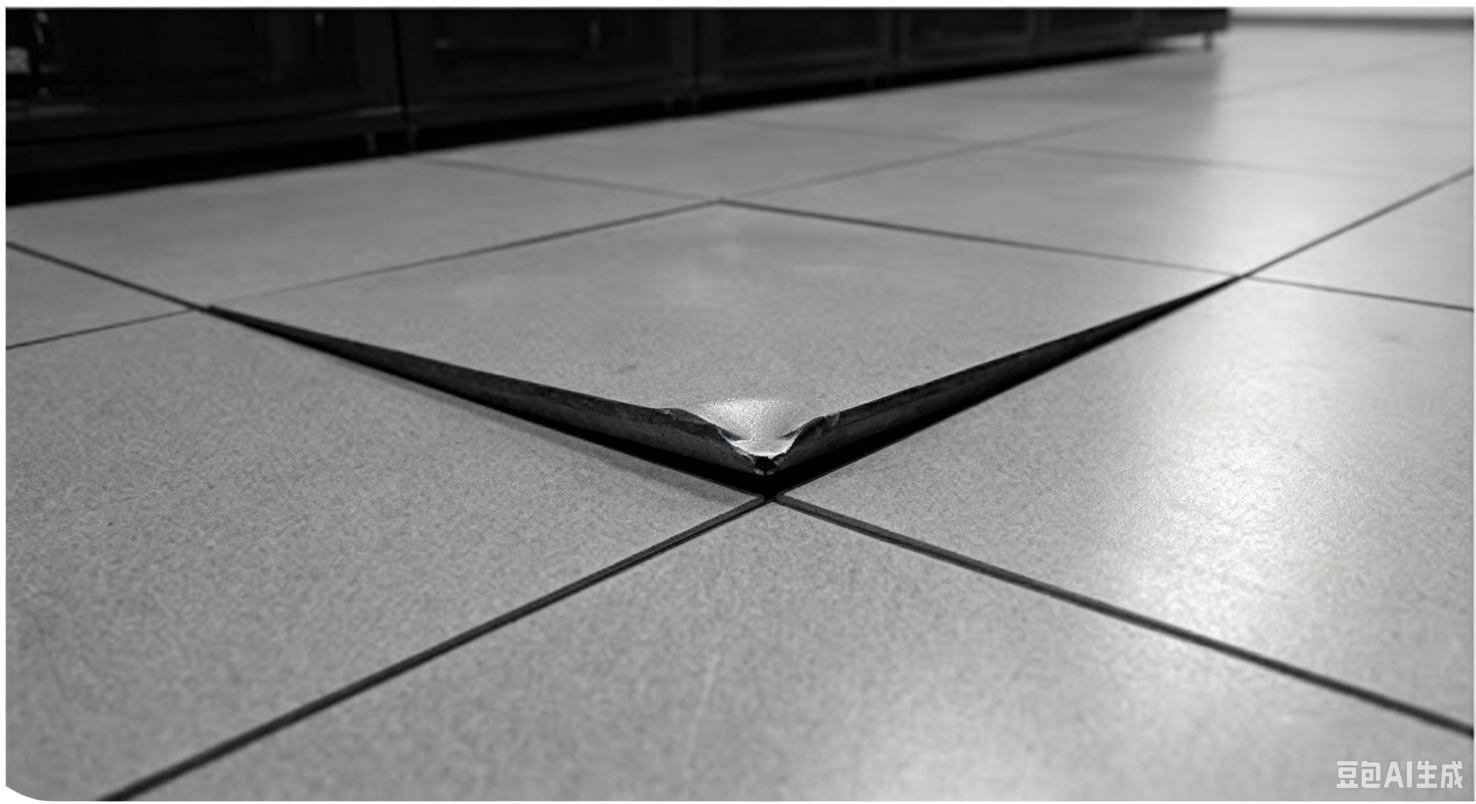floor_defect: (185, 271, 1270, 498)
